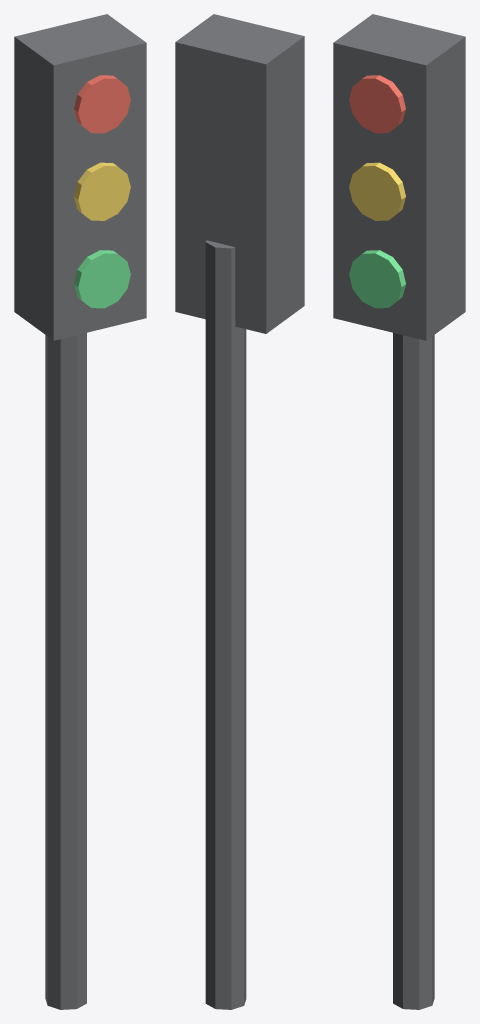
File: traffic-light.glb
3 renders of one model, left to right at view 1: azimuth 30°, elevation 25°; view 2: azimuth 150°, elevation 25°; view 3: azimuth 330°, elevation 25°, orthographic. The views are drawn at different scales.
Visible parts, largest first — view 1: traffic-light; view 2: traffic-light; view 3: traffic-light.
Boxes of the visible parts, box(x1,y1,x2,y2) form: traffic-light: box(14, 14, 146, 1009); traffic-light: box(175, 14, 304, 1009); traffic-light: box(333, 14, 465, 1009).
Bounding box in the file's own units: 0.3 × 3 × 0.275.
